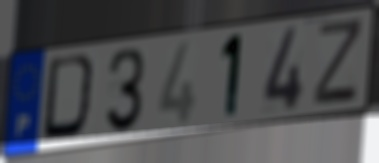1: (216, 30, 245, 123)
3: (105, 46, 147, 136)
4: (262, 24, 306, 114), (155, 40, 198, 128)
D: (39, 51, 102, 144)
Z: (311, 15, 365, 107)
